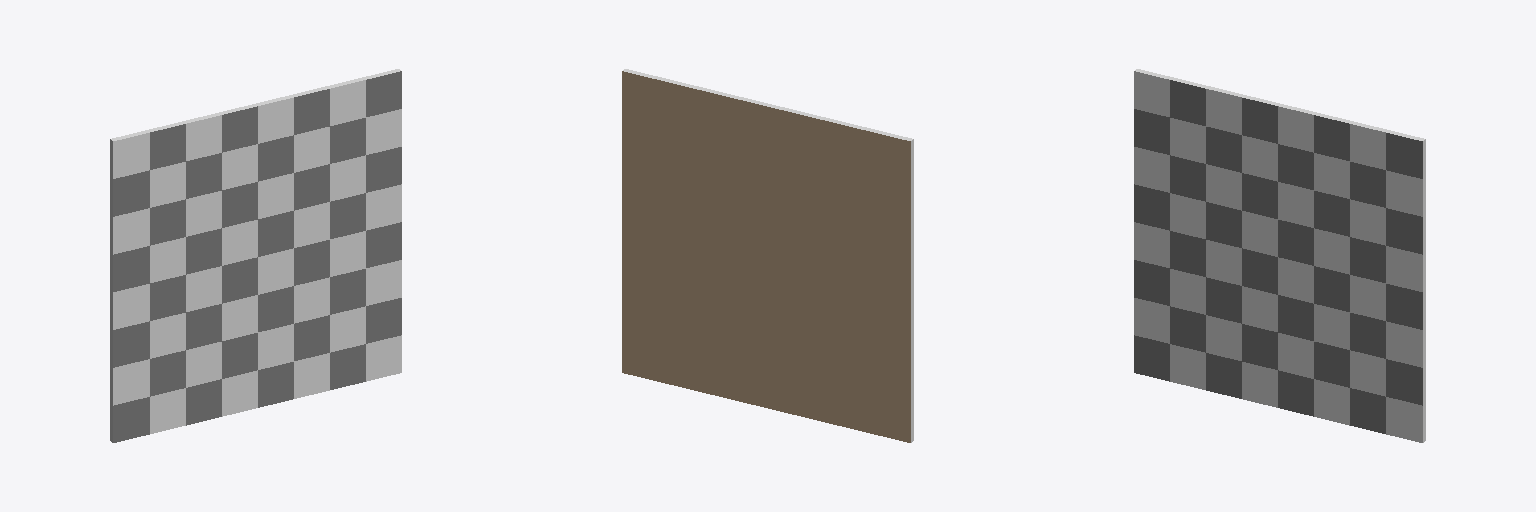
3 renders of one model, left to right at view 1: azimuth 30°, elevation 25°; view 2: azimuth 150°, elevation 25°; view 3: azimuth 330°, elevation 25°, orthographic.
Parts seen in each view (by area): view 1: Floor_05_Cube.041; view 2: Floor_05_Cube.041; view 3: Floor_05_Cube.041.
Part boxes in pixels (x1,y1,x2,y2): Floor_05_Cube.041: (110,69,401,442); Floor_05_Cube.041: (622,69,913,442); Floor_05_Cube.041: (1134,69,1425,442).
Size of the model in its own units: 5 by 5 by 0.1.
Materials: 1 (1 with a texture image).